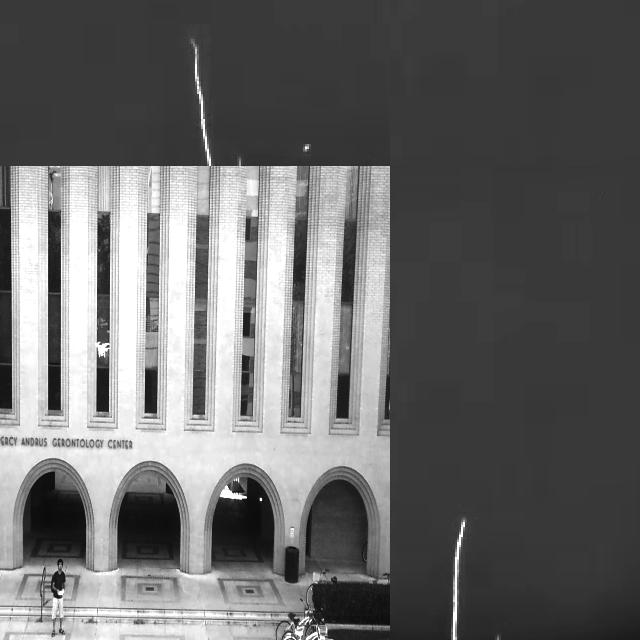0: (292, 135, 318, 165)
drone: (94, 342, 108, 361)
